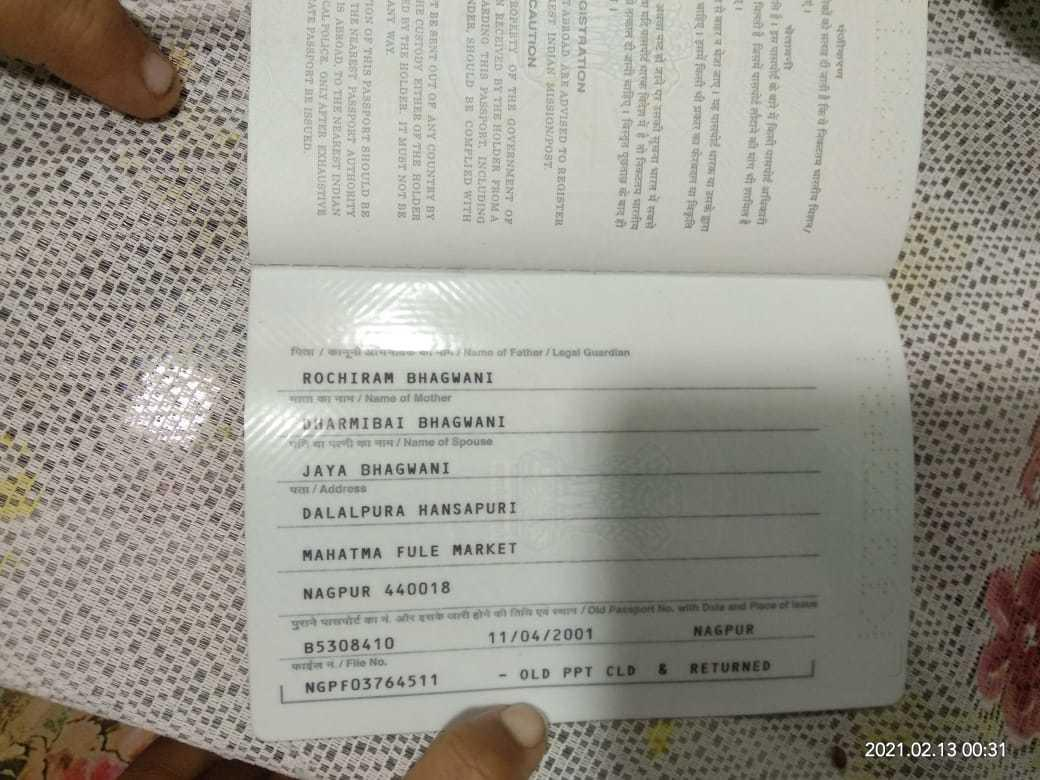File_no: (297, 671, 443, 701)
address: (294, 497, 528, 602)
father_name: (296, 363, 509, 390)
mother_name: (293, 410, 525, 433)
old_passport_details: (292, 615, 781, 653)
spouse_name: (290, 454, 463, 485)
